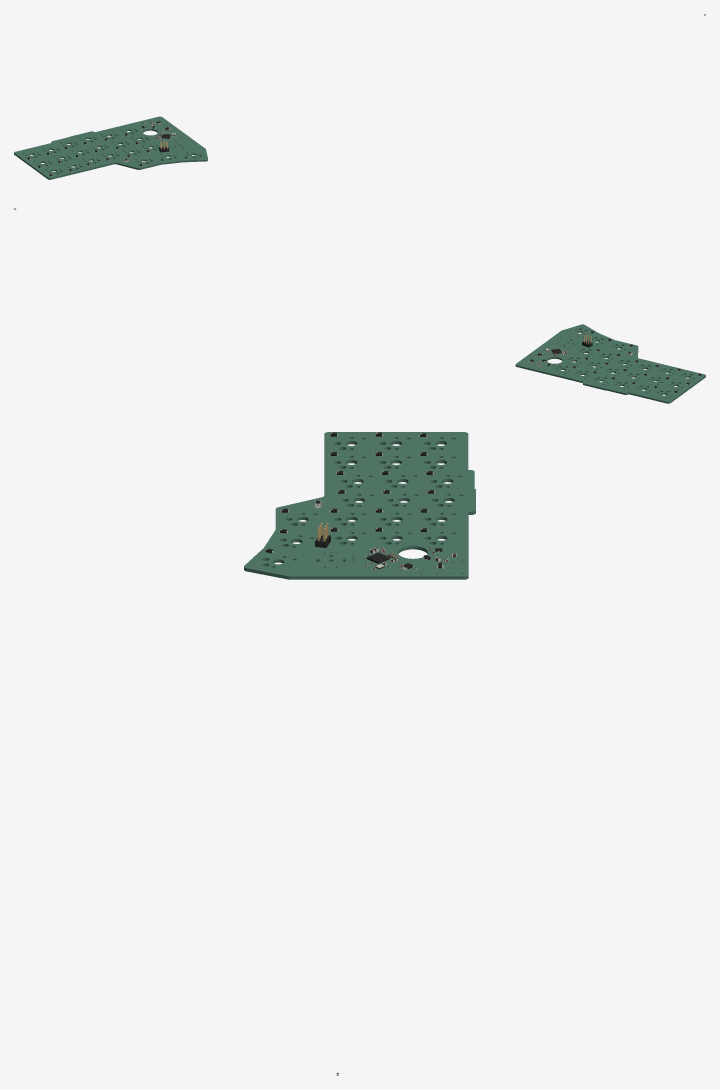
File: pcb.glb
3 views of the same model, one above another, from view 1: azimuth 30°, elevation 25°; view 2: azimuth 150°, elevation 25°; view 3: azimuth 270°, elevation 25° (orthographic). The views are drawn at different scales.
Parts seen in each view (by area): view 1: =>[0:1:1:18]; view 2: =>[0:1:1:18]; view 3: =>[0:1:1:18].
Part boxes in pixels (x1,y1,x2,y2): =>[0:1:1:18]: [14, 116, 207, 179]; =>[0:1:1:18]: [515, 324, 705, 403]; =>[0:1:1:18]: [244, 432, 475, 579].
Bounding box in the file's own units: 0.6475 × 0.0115 × 0.0985.
